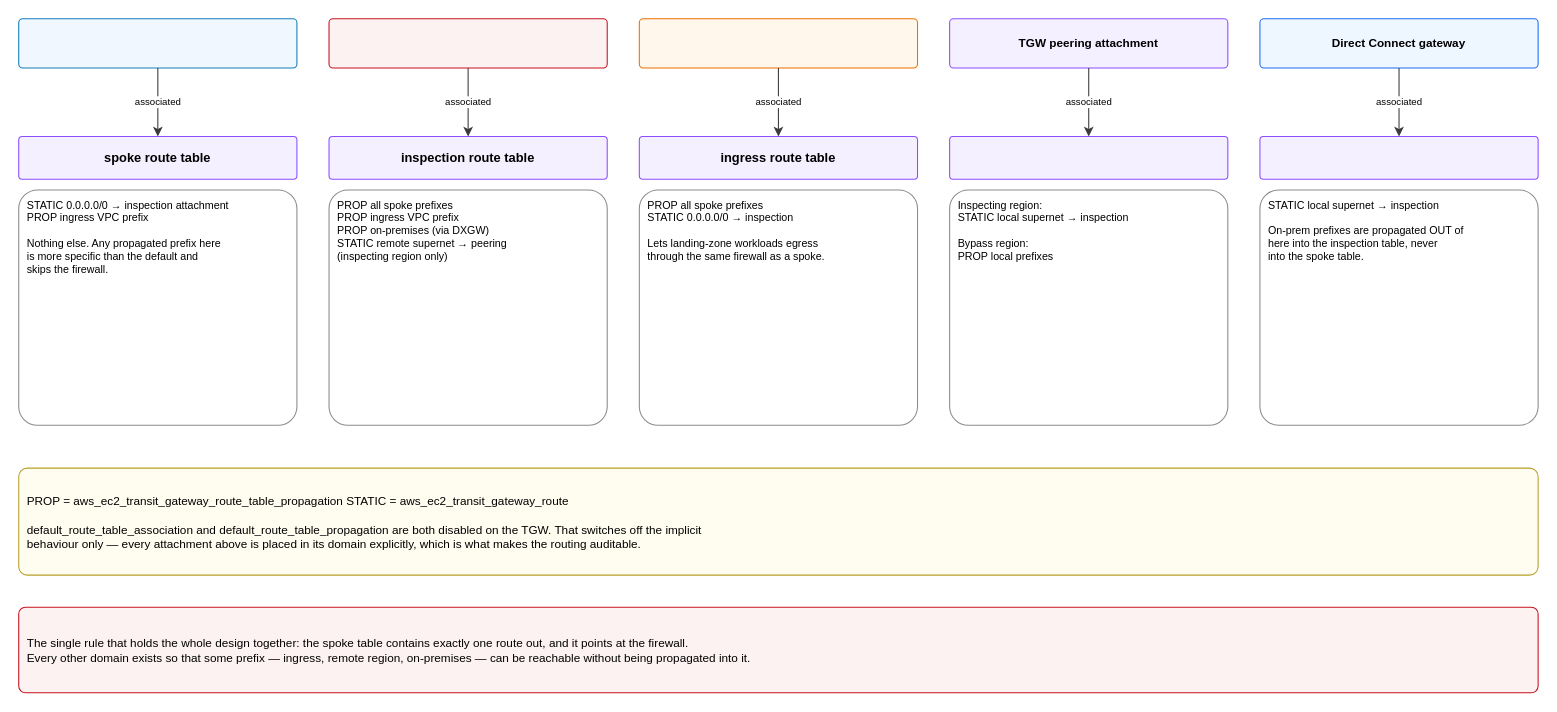
Some shapes in this 1557 by 712 pixel diagram are drawn without their labels. Here are the shapes that lost their labels. From the top down, the centre of each, then its label:
At point (157, 43): "spoke-01 … spoke-06".
At point (467, 43): "inspection VPC".
At point (778, 43): "ingress VPC".
At point (1088, 157): "peering route table".
At point (1398, 157): "hybrid route table".
